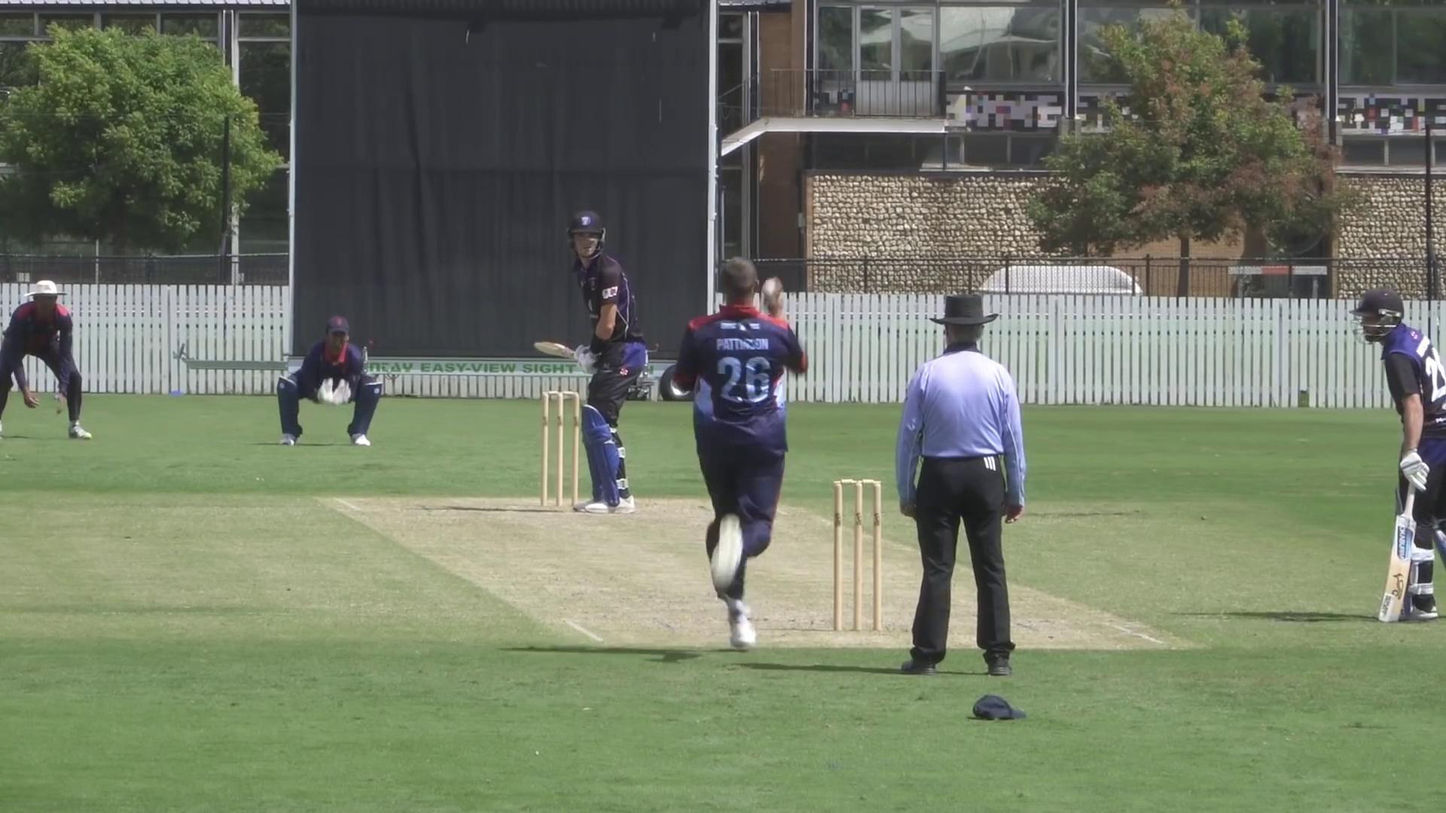ball: (759, 275, 783, 302)
